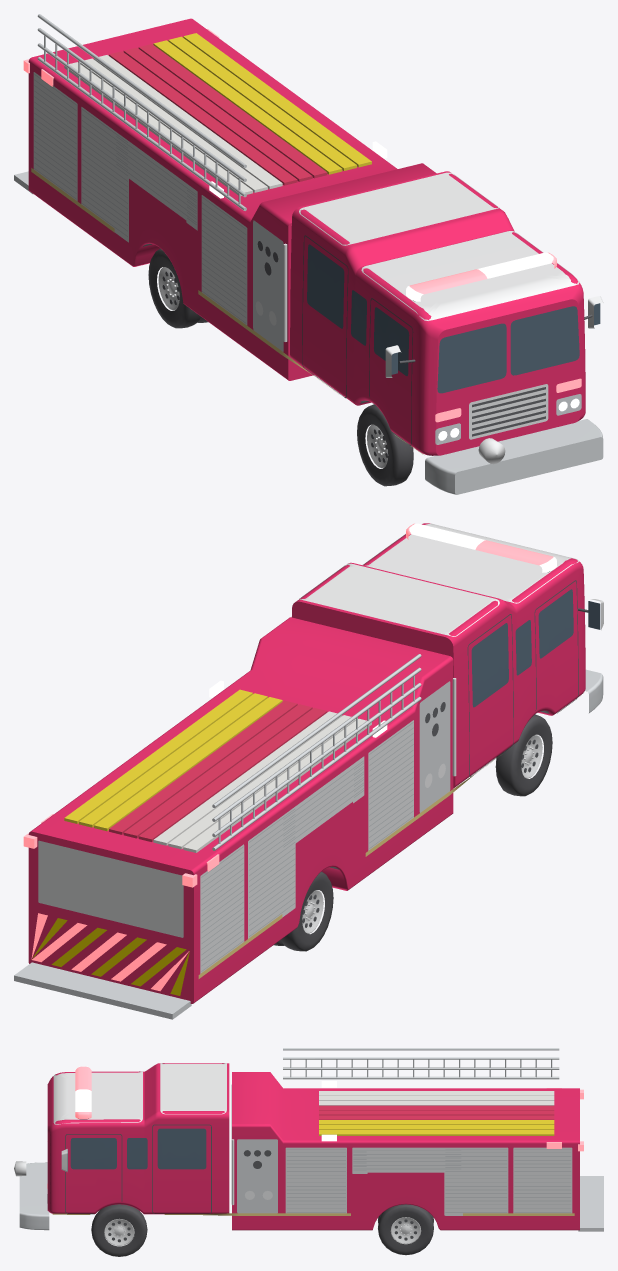
Rendered from truck-fire.glb.
3 views of the same model, one above another, from view 1: azimuth 30°, elevation 25°; view 2: azimuth 150°, elevation 25°; view 3: azimuth 270°, elevation 25° (orthographic). The views are drawn at different scales.
Visible parts, largest first — view 1: truck-fire; view 2: truck-fire; view 3: truck-fire.
Part boxes in pixels (x1,y1,x2,y2): truck-fire: (14, 14, 603, 494); truck-fire: (14, 523, 603, 1019); truck-fire: (14, 1048, 603, 1256).
Size of the model in its own units: 3.26 by 3.37 by 11.53.
